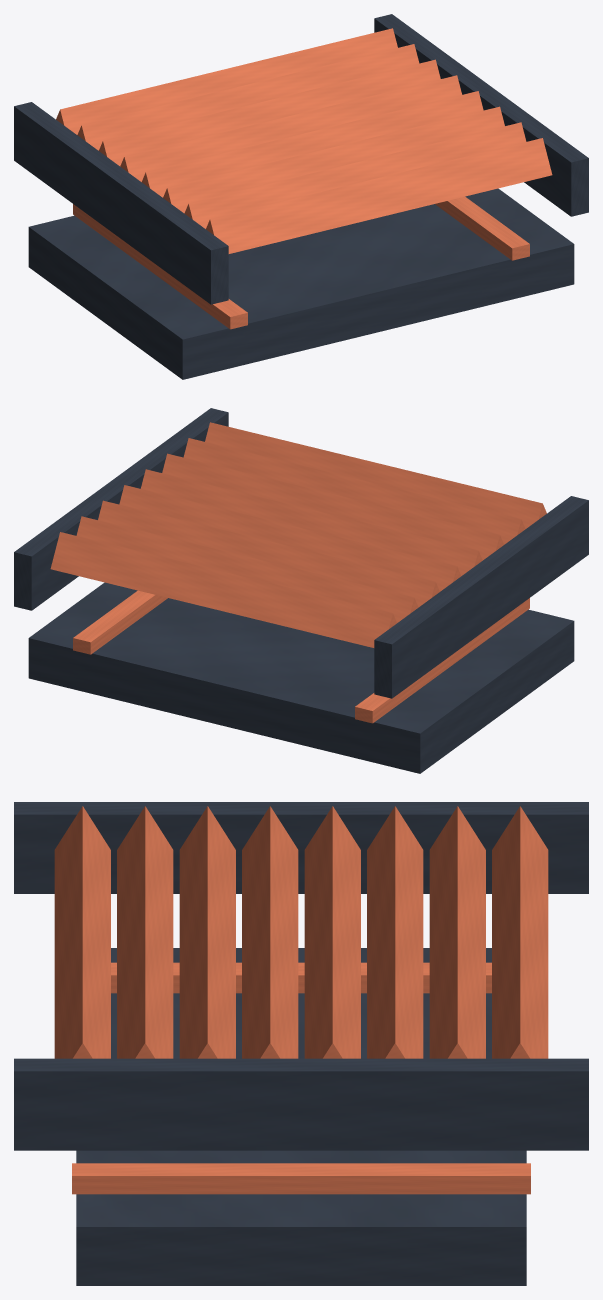
Rendered from atlas100-s021-a02.lod2.glb.
3 renders of one model, top to bottom at view 1: azimuth 30°, elevation 25°; view 2: azimuth 150°, elevation 25°; view 3: azimuth 270°, elevation 25°, orthographic. The views are drawn at different scales.
Visible parts, largest first — view 1: atlas100-s021-a02:part-000, atlas100-s021-a02:part-011, atlas100-s021-a02:part-010, atlas100-s021-a02:part-004, atlas100-s021-a02:part-005, atlas100-s021-a02:part-008, atlas100-s021-a02:part-003, atlas100-s021-a02:part-006, atlas100-s021-a02:part-007, atlas100-s021-a02:part-009, atlas100-s021-a02:part-012, atlas100-s021-a02:part-001 (+1 smaller); view 2: atlas100-s021-a02:part-000, atlas100-s021-a02:part-011, atlas100-s021-a02:part-003, atlas100-s021-a02:part-005, atlas100-s021-a02:part-008, atlas100-s021-a02:part-009, atlas100-s021-a02:part-010, atlas100-s021-a02:part-007, atlas100-s021-a02:part-004, atlas100-s021-a02:part-006, atlas100-s021-a02:part-012, atlas100-s021-a02:part-001 (+1 smaller); view 3: atlas100-s021-a02:part-012, atlas100-s021-a02:part-000, atlas100-s021-a02:part-011, atlas100-s021-a02:part-002, atlas100-s021-a02:part-003, atlas100-s021-a02:part-004, atlas100-s021-a02:part-005, atlas100-s021-a02:part-006, atlas100-s021-a02:part-007, atlas100-s021-a02:part-008, atlas100-s021-a02:part-009, atlas100-s021-a02:part-010 (+1 smaller).
Boxes of the visible parts, <box> form: atlas100-s021-a02:part-000: <box>28,188,574,379</box>; atlas100-s021-a02:part-011: <box>14,102,228,304</box>; atlas100-s021-a02:part-010: <box>206,138,552,253</box>; atlas100-s021-a02:part-004: <box>77,44,419,150</box>; atlas100-s021-a02:part-005: <box>99,59,440,166</box>; atlas100-s021-a02:part-008: <box>163,106,504,213</box>; atlas100-s021-a02:part-003: <box>56,28,397,134</box>; atlas100-s021-a02:part-006: <box>120,75,462,181</box>; atlas100-s021-a02:part-007: <box>142,91,483,197</box>; atlas100-s021-a02:part-009: <box>184,122,526,228</box>; atlas100-s021-a02:part-012: <box>374,14,588,216</box>; atlas100-s021-a02:part-001: <box>73,204,247,329</box>; atlas100-s021-a02:part-000: <box>28,582,574,773</box>; atlas100-s021-a02:part-011: <box>374,496,588,698</box>; atlas100-s021-a02:part-003: <box>50,532,396,647</box>; atlas100-s021-a02:part-005: <box>98,500,439,607</box>; atlas100-s021-a02:part-008: <box>162,453,503,560</box>; atlas100-s021-a02:part-009: <box>183,438,525,544</box>; atlas100-s021-a02:part-010: <box>205,422,546,528</box>; atlas100-s021-a02:part-007: <box>140,469,482,575</box>; atlas100-s021-a02:part-004: <box>76,516,418,622</box>; atlas100-s021-a02:part-006: <box>119,485,460,591</box>; atlas100-s021-a02:part-012: <box>14,408,228,610</box>; atlas100-s021-a02:part-001: <box>355,598,529,723</box>; atlas100-s021-a02:part-012: <box>14,1058,588,1150</box>; atlas100-s021-a02:part-000: <box>76,948,526,1285</box>; atlas100-s021-a02:part-011: <box>14,802,588,893</box>; atlas100-s021-a02:part-002: <box>72,1163,530,1194</box>; atlas100-s021-a02:part-003: <box>492,806,548,1058</box>; atlas100-s021-a02:part-004: <box>429,806,485,1058</box>; atlas100-s021-a02:part-005: <box>367,806,423,1058</box>; atlas100-s021-a02:part-006: <box>304,806,360,1058</box>; atlas100-s021-a02:part-007: <box>242,806,298,1058</box>; atlas100-s021-a02:part-008: <box>179,806,235,1058</box>; atlas100-s021-a02:part-009: <box>117,806,173,1058</box>; atlas100-s021-a02:part-010: <box>54,806,110,1058</box>.
Bounding box in the file's own units: 2.64 × 0.98 × 2.3.
Materials: 2 (2 with a texture image).
